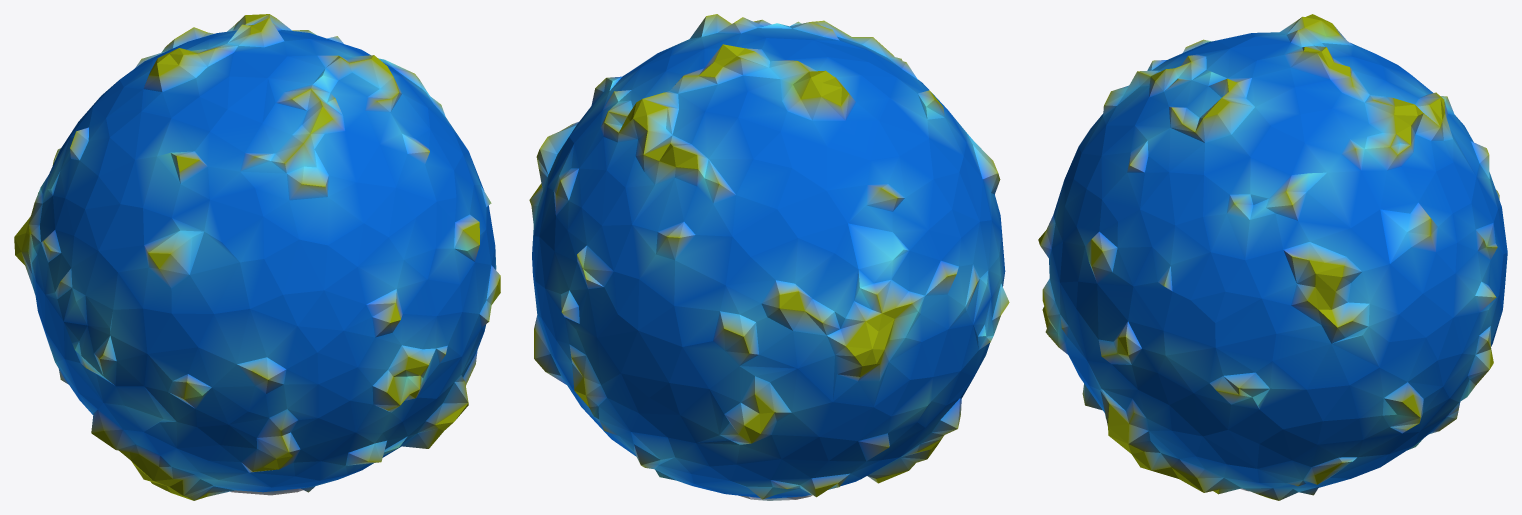
File: planet_100.fbx
3 views of the same model, side by side, from view 1: azimuth 30°, elevation 25°; view 2: azimuth 150°, elevation 25°; view 3: azimuth 270°, elevation 25° (orthographic). The views are drawn at different scales.
Parts seen in each view (by area): view 1: file1; view 2: file1; view 3: file1.
Boxes of the visible parts, left/top/right/bottom form: file1: left=14, top=14, right=500, bottom=500; file1: left=529, top=14, right=1009, bottom=500; file1: left=1038, top=14, right=1507, bottom=500.
Size of the model in its own units: 2.05 by 2.09 by 2.05.
